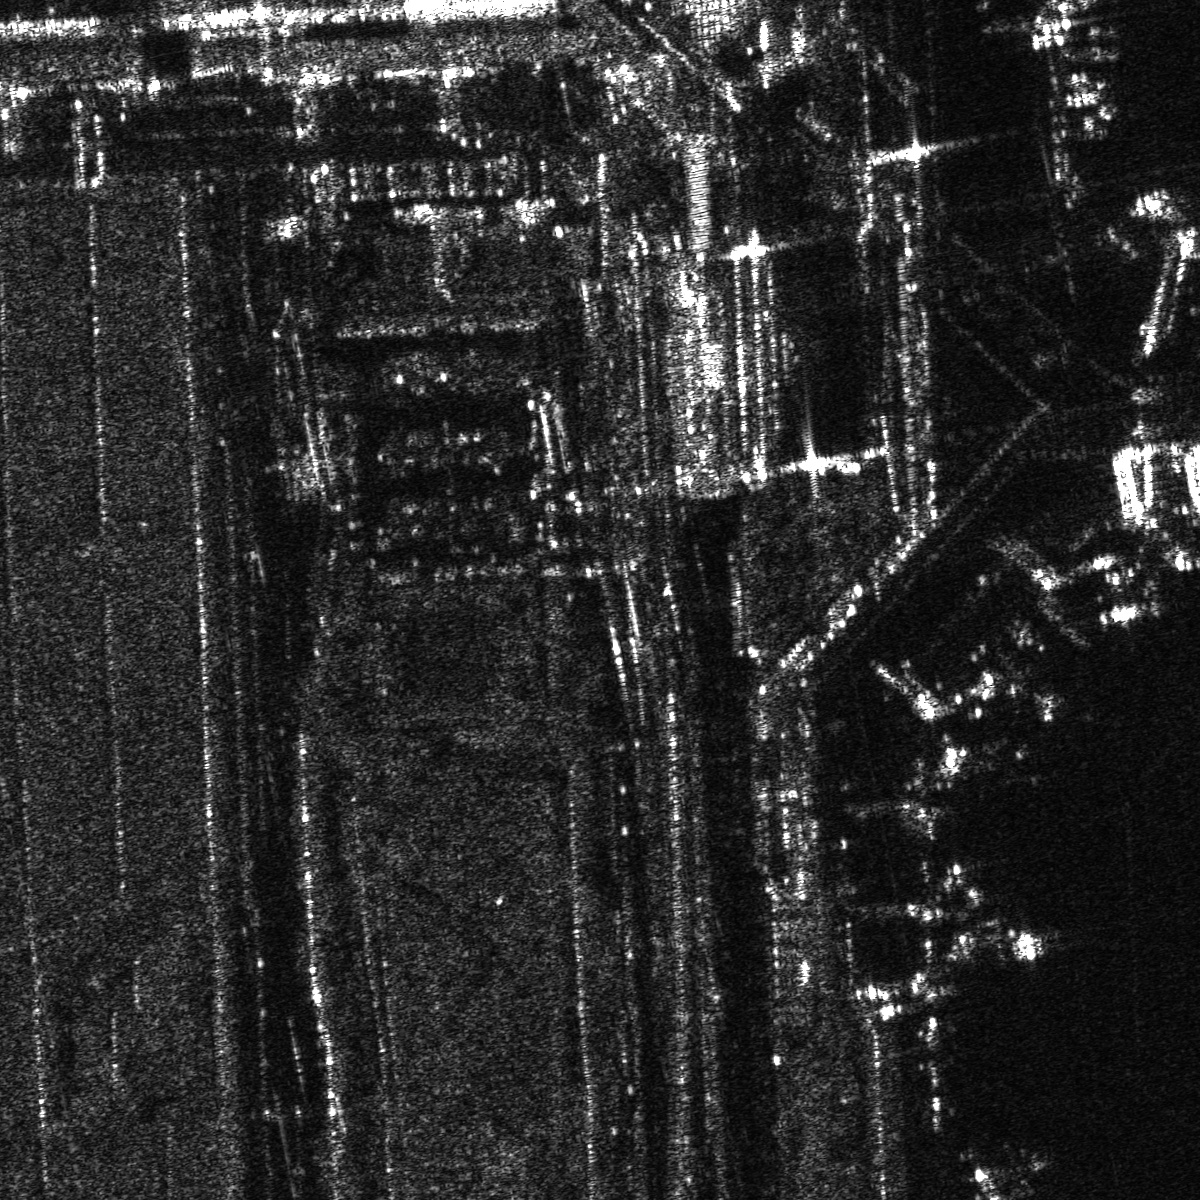A320/321: (924, 884, 1052, 970), (987, 663, 1069, 727)
